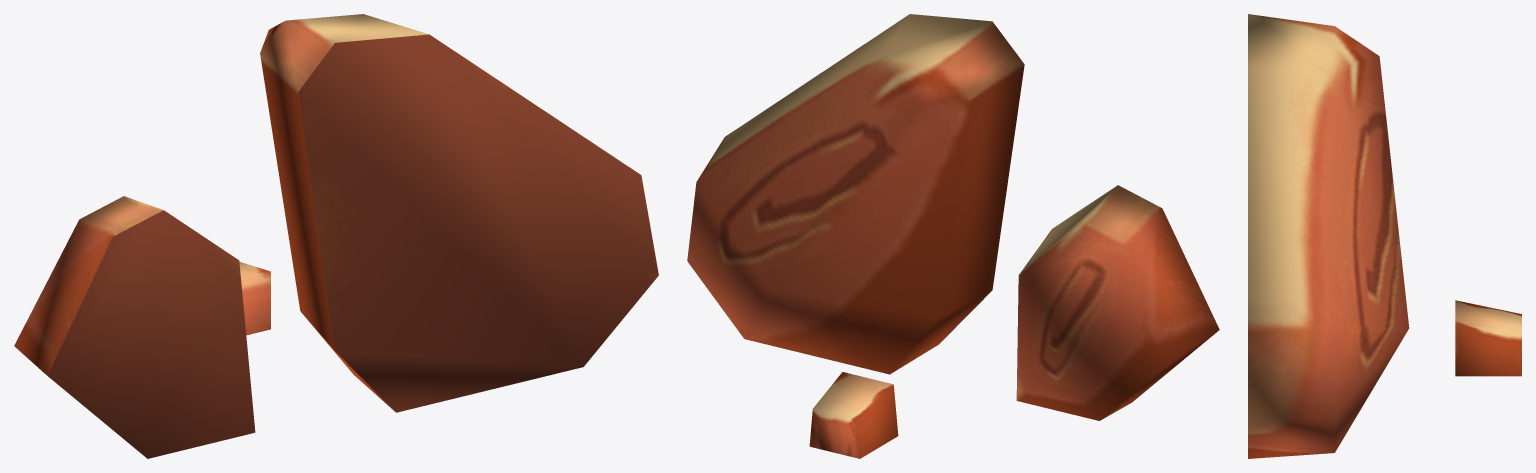
The model's file is sm_shidui1.fbx.
3 views of the same model, side by side, from view 1: azimuth 30°, elevation 25°; view 2: azimuth 150°, elevation 25°; view 3: azimuth 270°, elevation 25° (orthographic). The views are drawn at different scales.
Parts seen in each view (by area): view 1: sm_shitou2, sm_shitou1, sm_shitou3; view 2: sm_shitou2, sm_shitou1, sm_shitou3; view 3: sm_shitou2, sm_shitou3.
Boxes of the visible parts, bbox=[...] form: sm_shitou2: bbox=[260, 14, 658, 412]; sm_shitou1: bbox=[14, 196, 255, 458]; sm_shitou3: bbox=[239, 261, 270, 335]; sm_shitou2: bbox=[687, 14, 1024, 374]; sm_shitou1: bbox=[1016, 185, 1219, 420]; sm_shitou3: bbox=[809, 372, 898, 458]; sm_shitou2: bbox=[1248, 14, 1409, 458]; sm_shitou3: bbox=[1455, 300, 1521, 376].
Bounding box in the file's own units: 1466 × 905 × 661.
